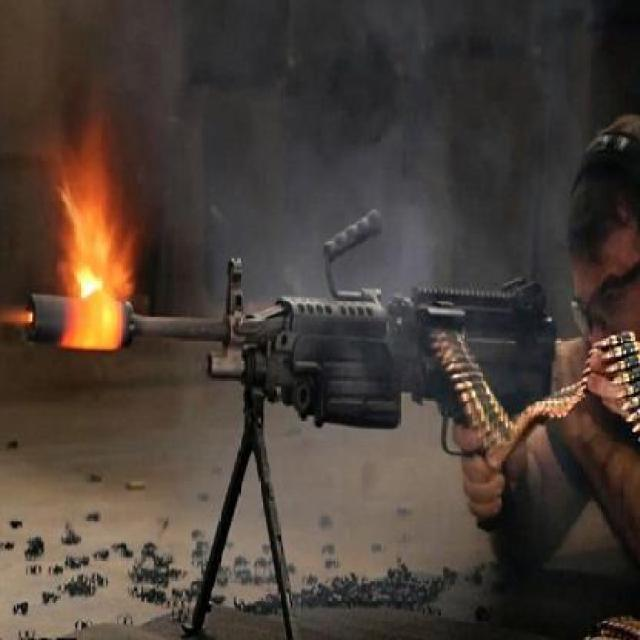Fire: (58, 192, 136, 296)
